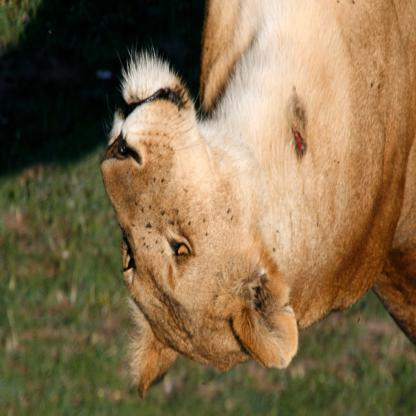lion: (91, 40, 311, 404)
